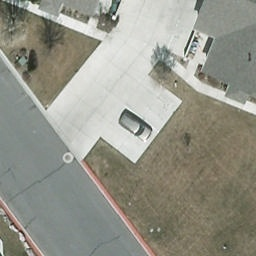car: (115, 108, 156, 143)
